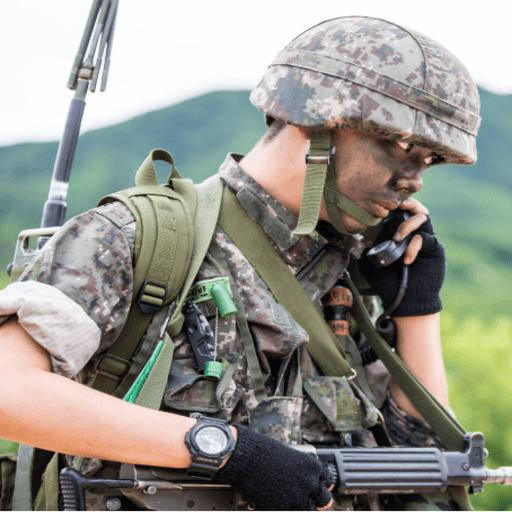korea army: (0, 12, 483, 510)
